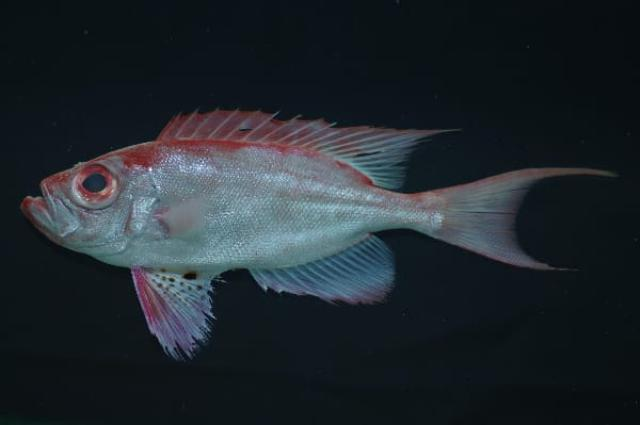Mulut: (11, 162, 78, 244)
Sirip Anal: (255, 234, 403, 310)
Sirip Dada: (154, 195, 222, 243)
Sirip Ekor: (436, 158, 624, 278)
Sirip Perut: (128, 261, 228, 369)
Sirip Punggung: (158, 104, 462, 192)
